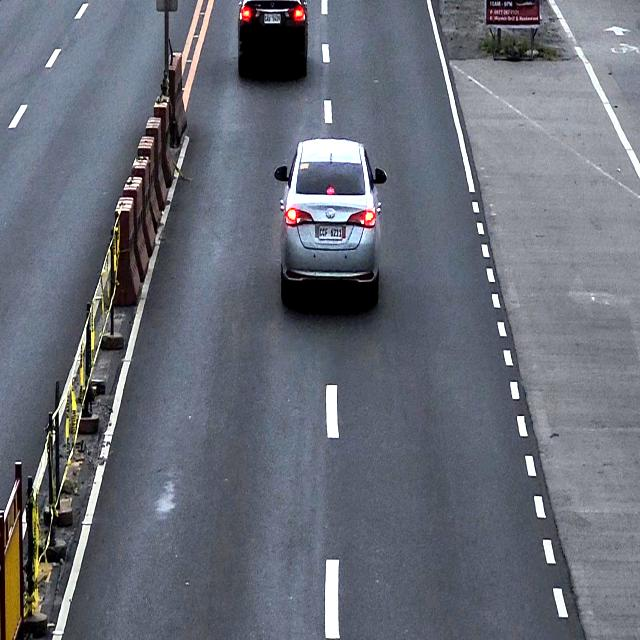Car: (274, 137, 387, 303), (237, 0, 308, 79)
License-Plate: (317, 224, 343, 241), (264, 13, 282, 24)
